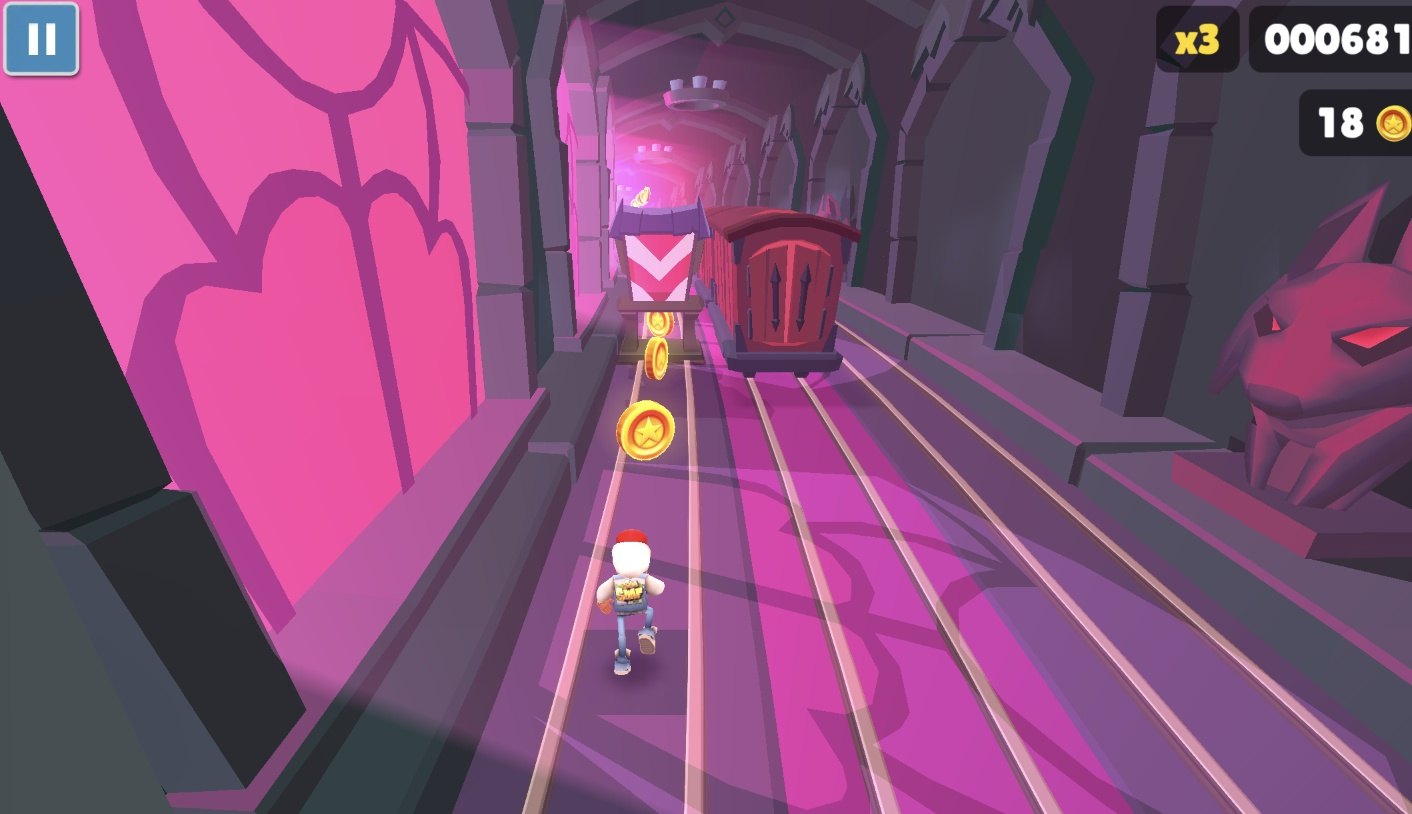overhead_barrier: (605, 199, 709, 366)
train: (699, 206, 861, 383)
